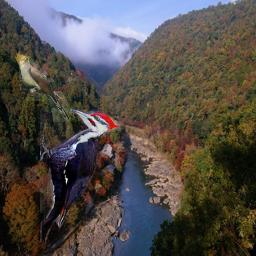Cuckoo: (19, 55, 71, 122)
Woodpecker: (40, 108, 124, 247)
